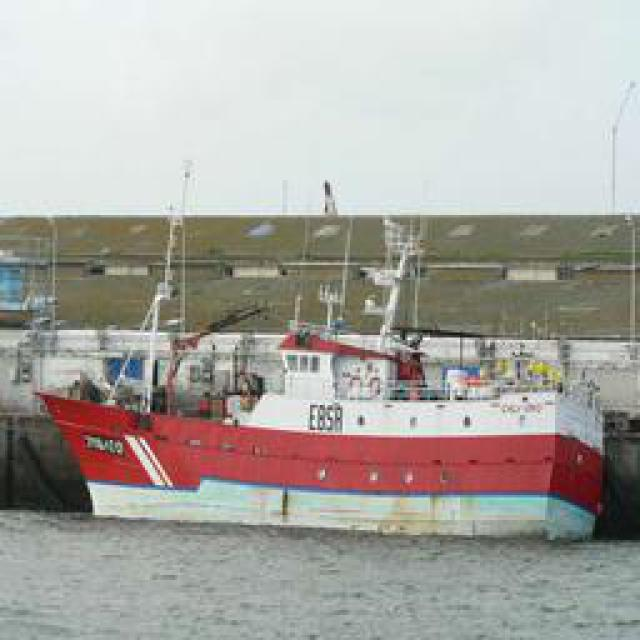Ship: (31, 195, 611, 543)
